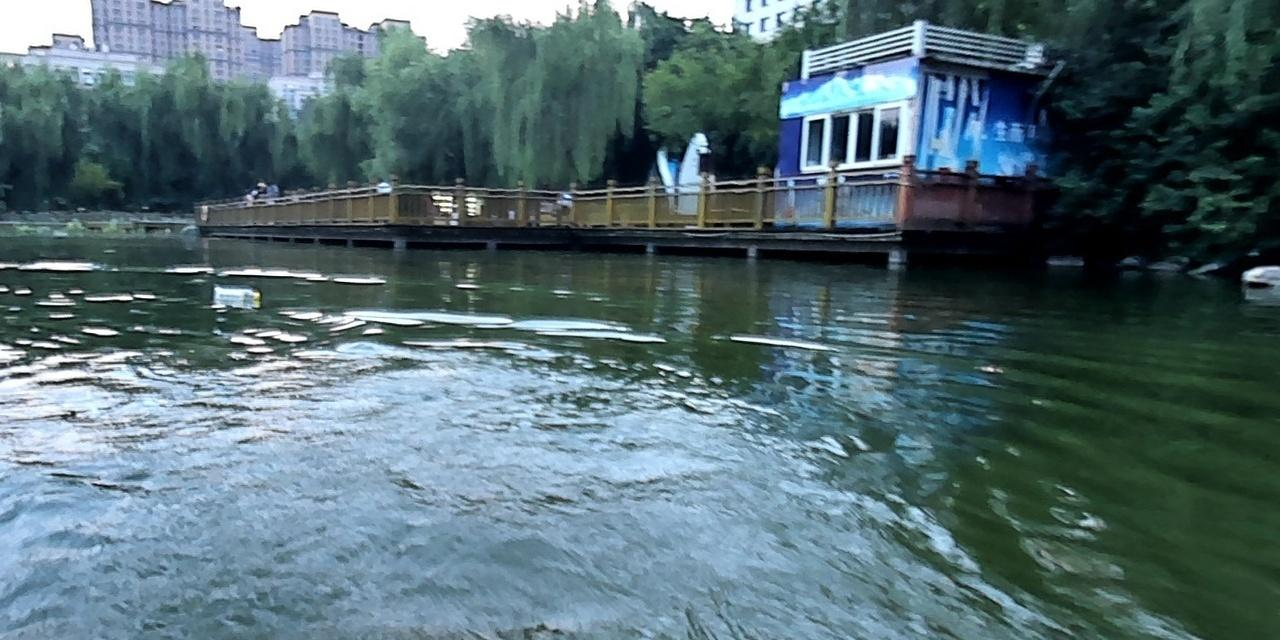bottle: (212, 286, 260, 305)
